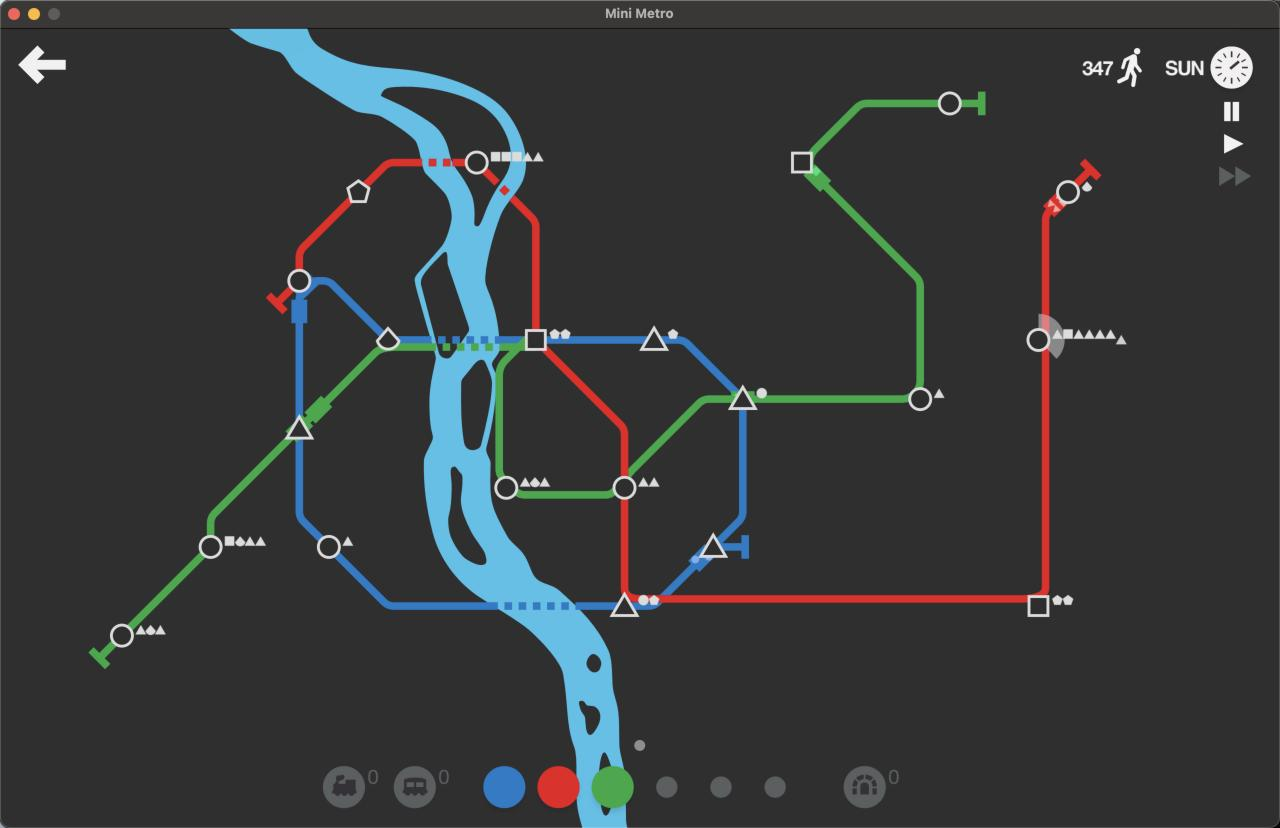CIRCLE: (1025, 326, 1051, 353), (612, 475, 638, 501), (493, 475, 519, 501), (1055, 179, 1081, 205), (937, 90, 962, 116), (109, 622, 134, 648), (198, 534, 223, 560), (316, 534, 342, 559), (908, 386, 933, 411), (465, 150, 489, 175), (287, 268, 311, 293)
PENTAGON: (346, 179, 371, 204)
SQUARE: (524, 328, 548, 352), (790, 151, 812, 174), (1027, 595, 1049, 618)
TRIANGLE: (697, 531, 728, 561), (727, 384, 759, 411), (285, 413, 315, 441), (639, 325, 669, 352), (610, 593, 640, 619)
WEDGE: (375, 326, 400, 351), (667, 329, 678, 339)
